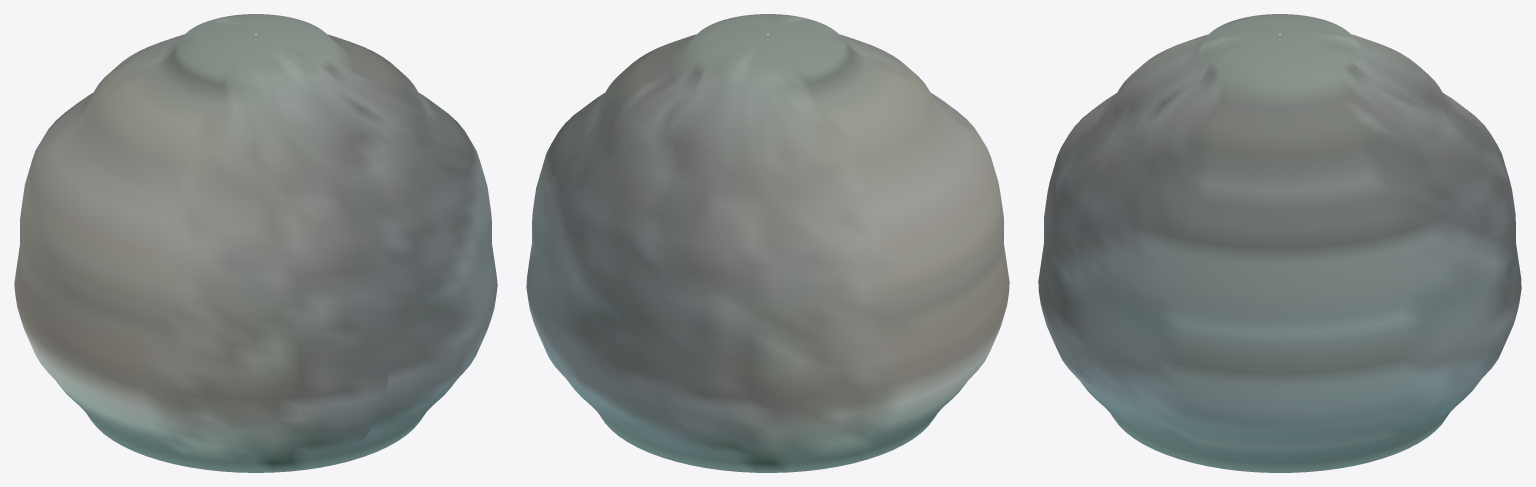
File: pom-0.glb
The picture shows the model from 3 angles, left to right: view 1: azimuth 30°, elevation 25°; view 2: azimuth 150°, elevation 25°; view 3: azimuth 270°, elevation 25°; orthographic projection.
Parts seen in each view (by area): view 1: pom-0; view 2: pom-0; view 3: pom-0.
Boxes of the visible parts, x1,y1,x2,y2 form: pom-0: [14, 14, 497, 472]; pom-0: [526, 14, 1009, 472]; pom-0: [1038, 14, 1521, 472].
Size of the model in its own units: 0.539 by 0.4503 by 0.539.
